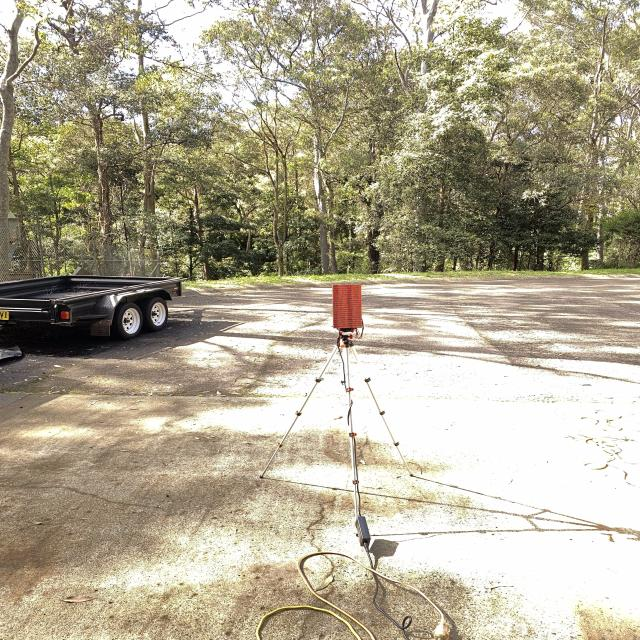matrix: (328, 276, 374, 334)
